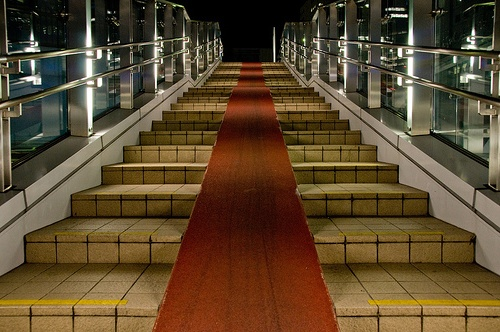stairs_up: (255, 58, 500, 332), (9, 59, 245, 332)
